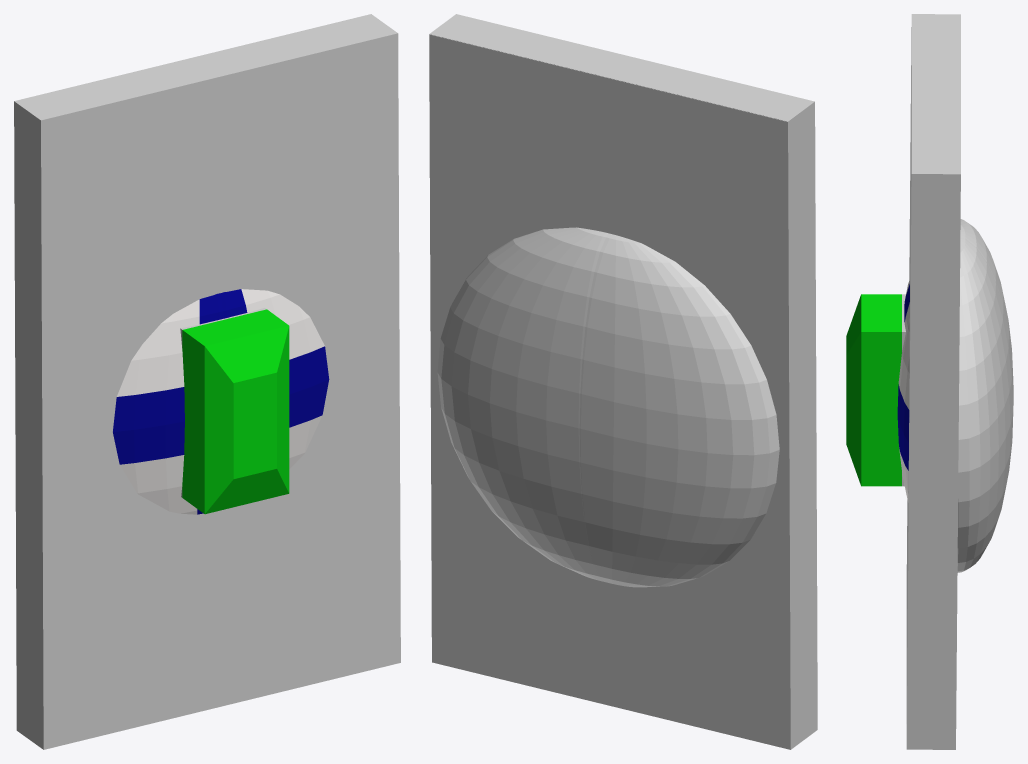
Rendered from Button.fbx.
The picture shows the model from 3 angles, left to right: view 1: azimuth 30°, elevation 25°; view 2: azimuth 150°, elevation 25°; view 3: azimuth 270°, elevation 25°; orthographic projection. The views are drawn at different scales.
Visible parts, largest first — view 1: Cube, Cube.002, Cube.001; view 2: Cube, Cube.001; view 3: Cube, Cube.001, Cube.002.
Part boxes in pixels (bbox=[...]): Cube: bbox=[14, 14, 400, 749]; Cube.002: bbox=[180, 308, 289, 514]; Cube.001: bbox=[113, 289, 329, 514]; Cube: bbox=[429, 14, 817, 749]; Cube.001: bbox=[437, 227, 779, 587]; Cube: bbox=[906, 14, 960, 749]; Cube.001: bbox=[897, 219, 1013, 572]; Cube.002: bbox=[846, 294, 905, 486].
Bounding box in the file's own units: 5.51 × 9.25 × 2.44.
